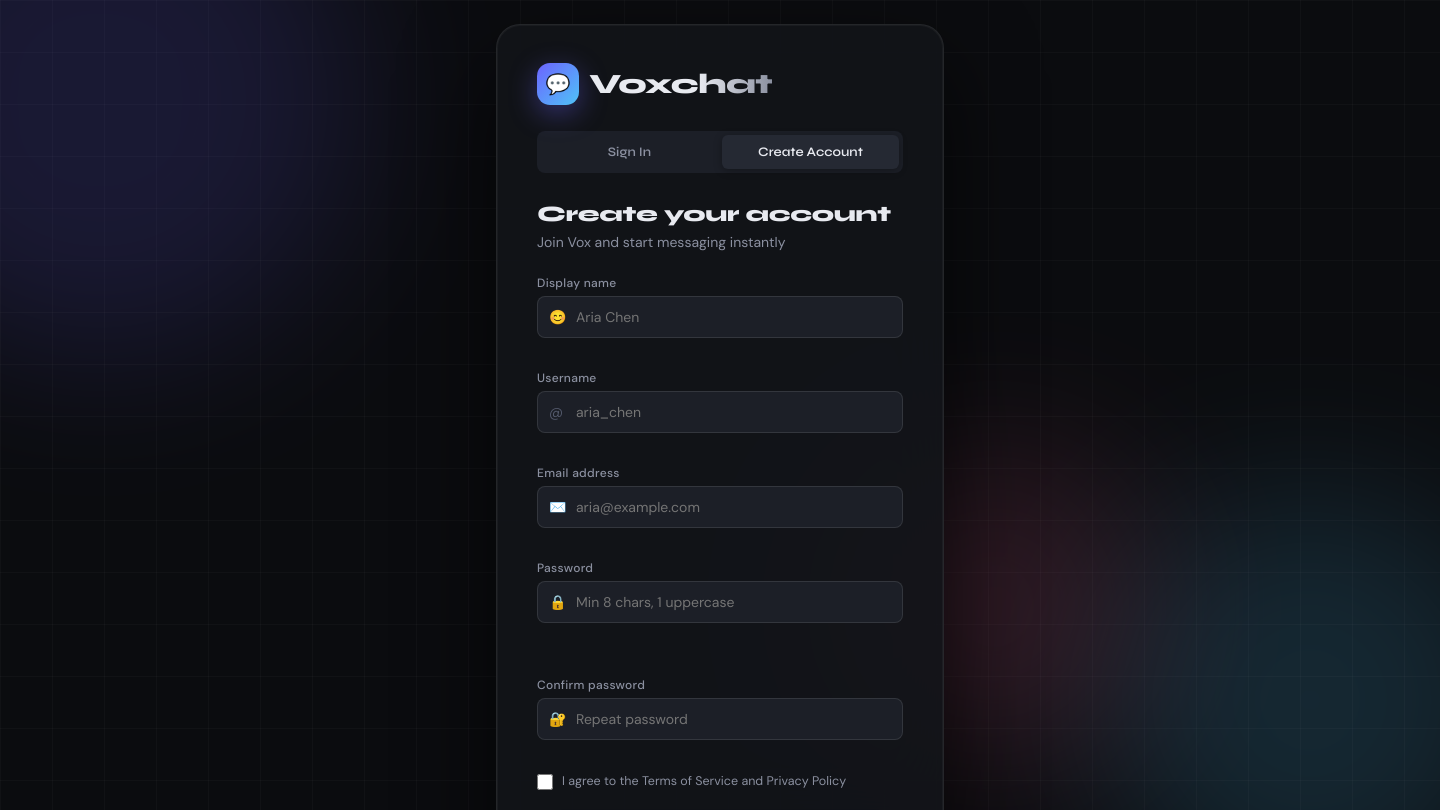
AuthPage › signup password strength indicator works
Type "Password1" into the password field labelled "Password" at (720, 602), box 537,581 -> 903,623
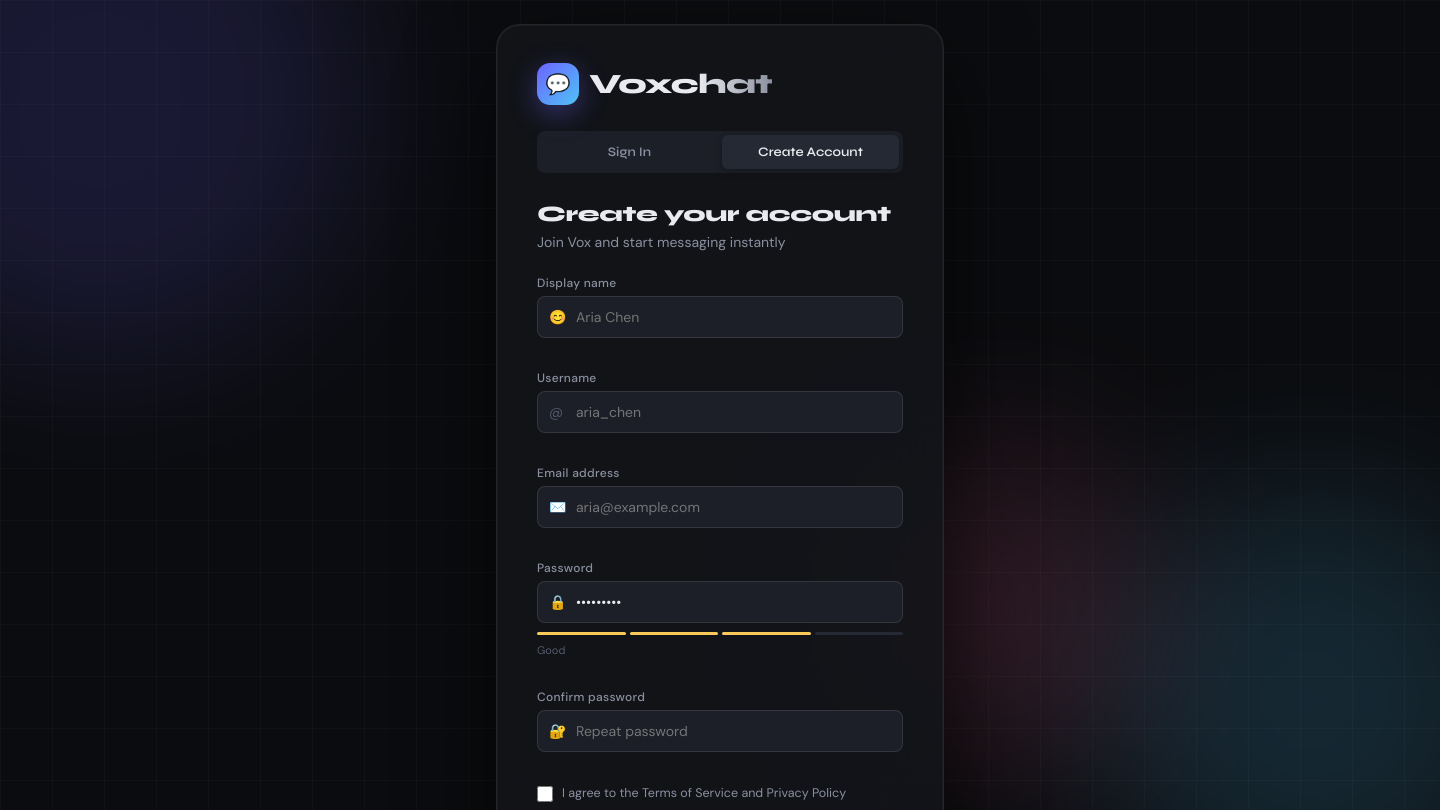
Now the text "Good" is shown, box 537,643 -> 565,657
